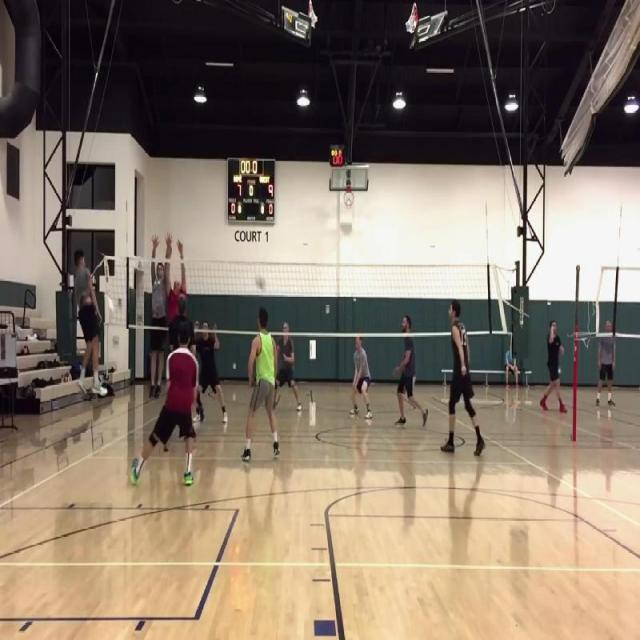volleyball: (256, 276, 264, 290)
